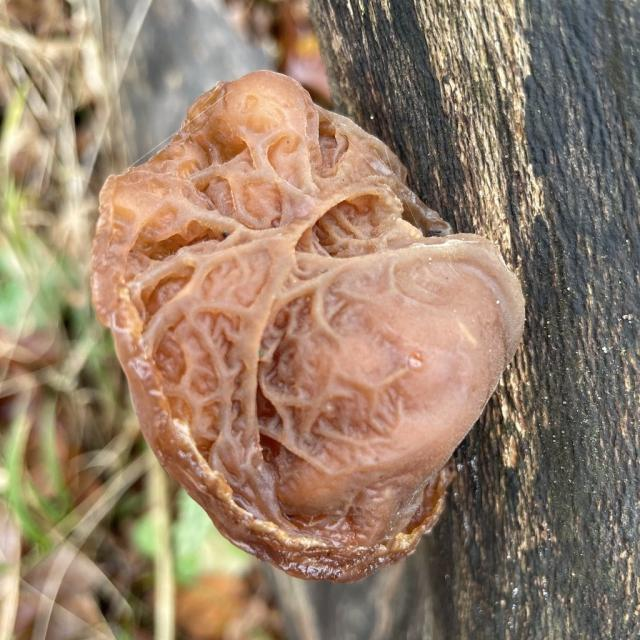Matang: (83, 67, 525, 564)
